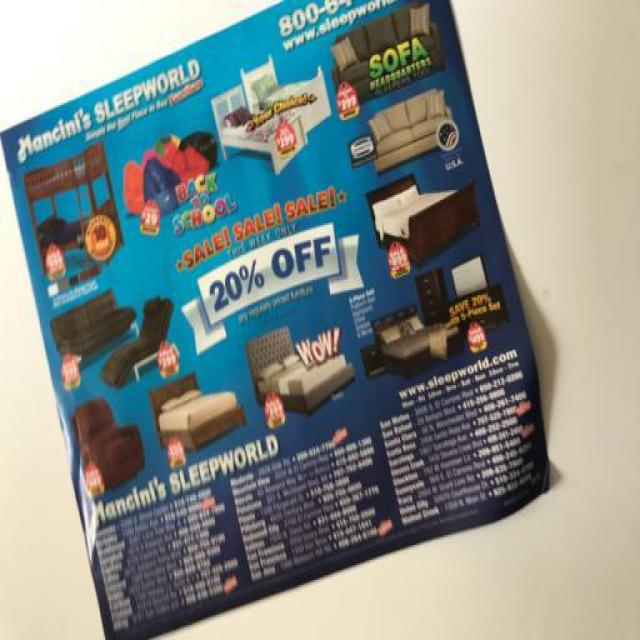paper: (2, 9, 592, 640)
